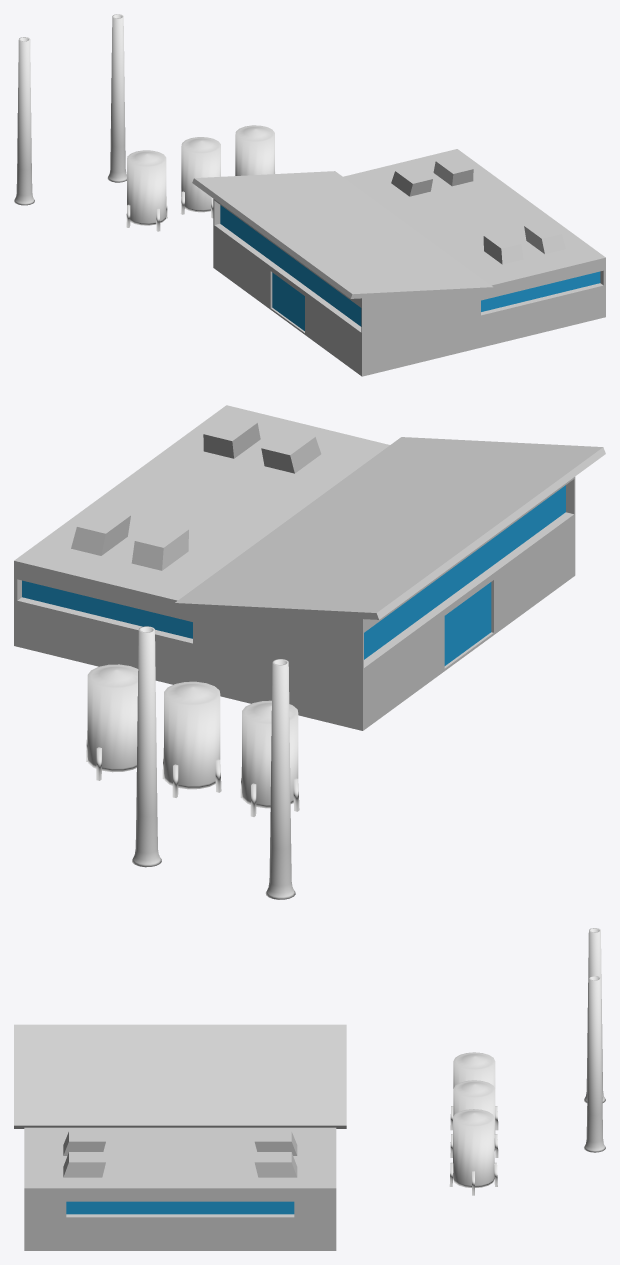
The model's file is industrial.fbx.
3 views of the same model, one above another, from view 1: azimuth 30°, elevation 25°; view 2: azimuth 150°, elevation 25°; view 3: azimuth 270°, elevation 25° (orthographic). The views are drawn at different scales.
Visible parts, largest first — view 1: Cube.001, Cylinder.003, Cylinder.004, Cylinder.002, Cylinder, Cylinder.005; view 2: Cube.001, Cylinder.004, Cylinder.005, Cylinder, Cylinder.002, Cylinder.003; view 3: Cube.001, Cylinder.005, Cylinder, Cylinder.004, Cylinder.003, Cylinder.002.
Boxes of the visible parts, x1,y1,x2,y2 form: Cube.001: [192, 149, 605, 376]; Cylinder.003: [126, 150, 167, 231]; Cylinder.004: [180, 137, 220, 218]; Cylinder.002: [14, 37, 34, 205]; Cylinder: [107, 14, 126, 182]; Cylinder.005: [235, 125, 275, 175]; Cube.001: [14, 405, 605, 730]; Cylinder.004: [162, 681, 221, 797]; Cylinder.005: [86, 664, 138, 780]; Cylinder: [132, 626, 161, 867]; Cylinder.002: [265, 659, 295, 899]; Cylinder.003: [240, 700, 299, 816]; Cube.001: [14, 1024, 346, 1250]; Cylinder.005: [449, 1109, 497, 1195]; Cylinder: [584, 976, 605, 1152]; Cylinder.004: [450, 1080, 498, 1157]; Cylinder.003: [450, 1052, 498, 1130]; Cylinder.002: [584, 928, 605, 1102].
Size of the model in its own units: 9051 by 4382 by 13871.
